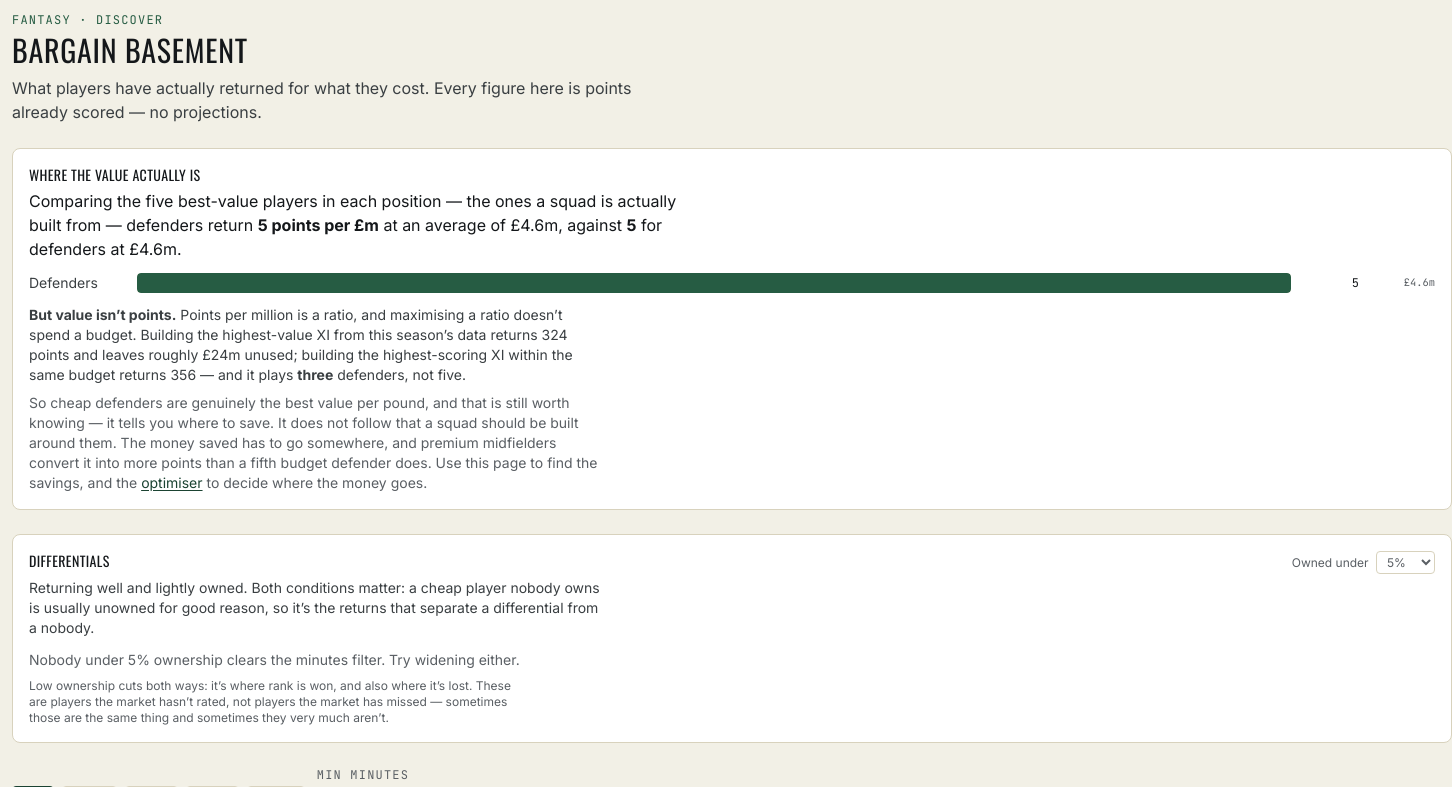
Test: ValuePage › lets the ownership ceiling be widened
Select "10%" in the dropdown showing "5%". click: (1406, 562)
box: x1=1376 y1=551 x2=1435 y2=574
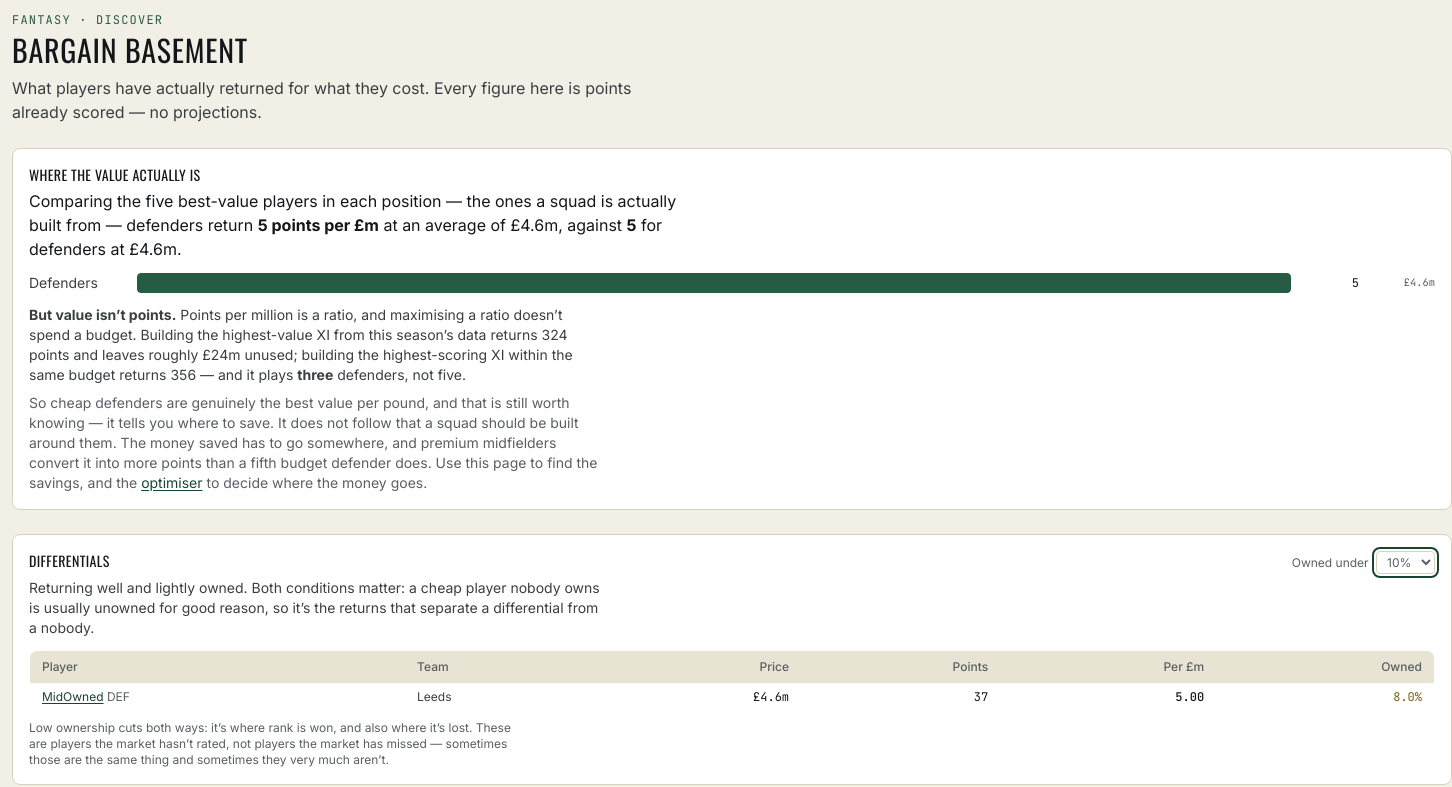
Result: the element "Differentials" shows "MidOwned" at x1=42 y1=689 x2=104 y2=704
